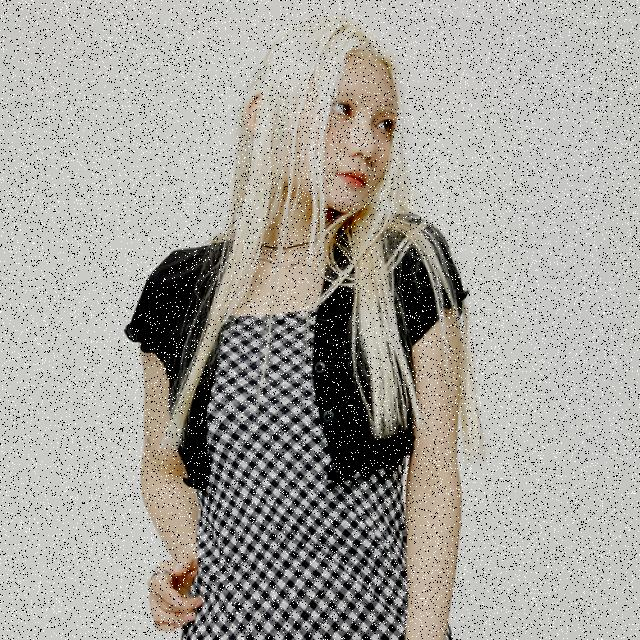Blouse_deep: (127, 224, 468, 488)
